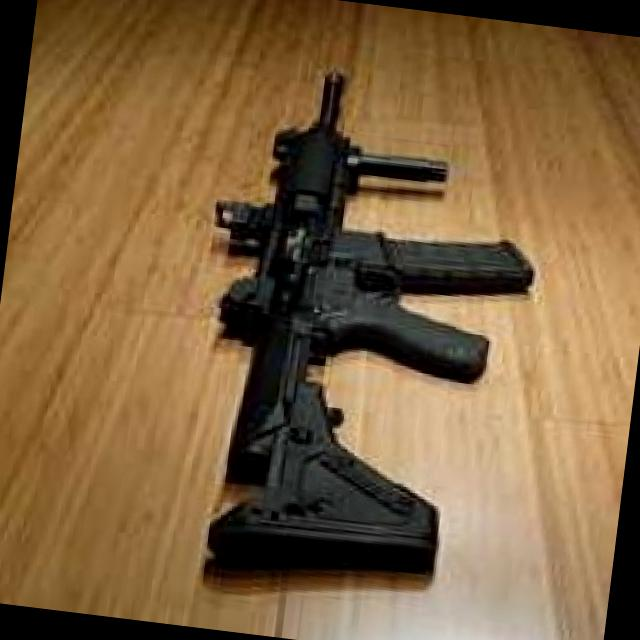long weapon: (105, 82, 558, 586)
